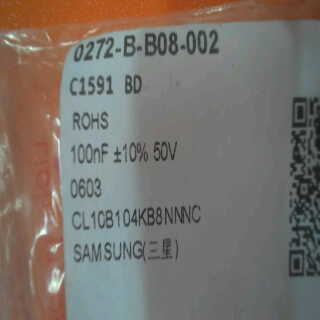100nF: (65, 134, 115, 169)
